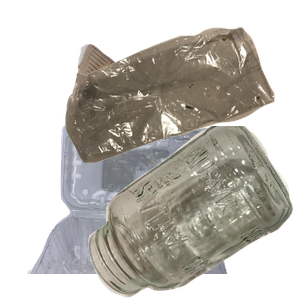cardboard: (74, 42, 225, 170)
glass: (86, 126, 300, 300)
plastic: (25, 120, 245, 300)
trash: (63, 24, 300, 179)
